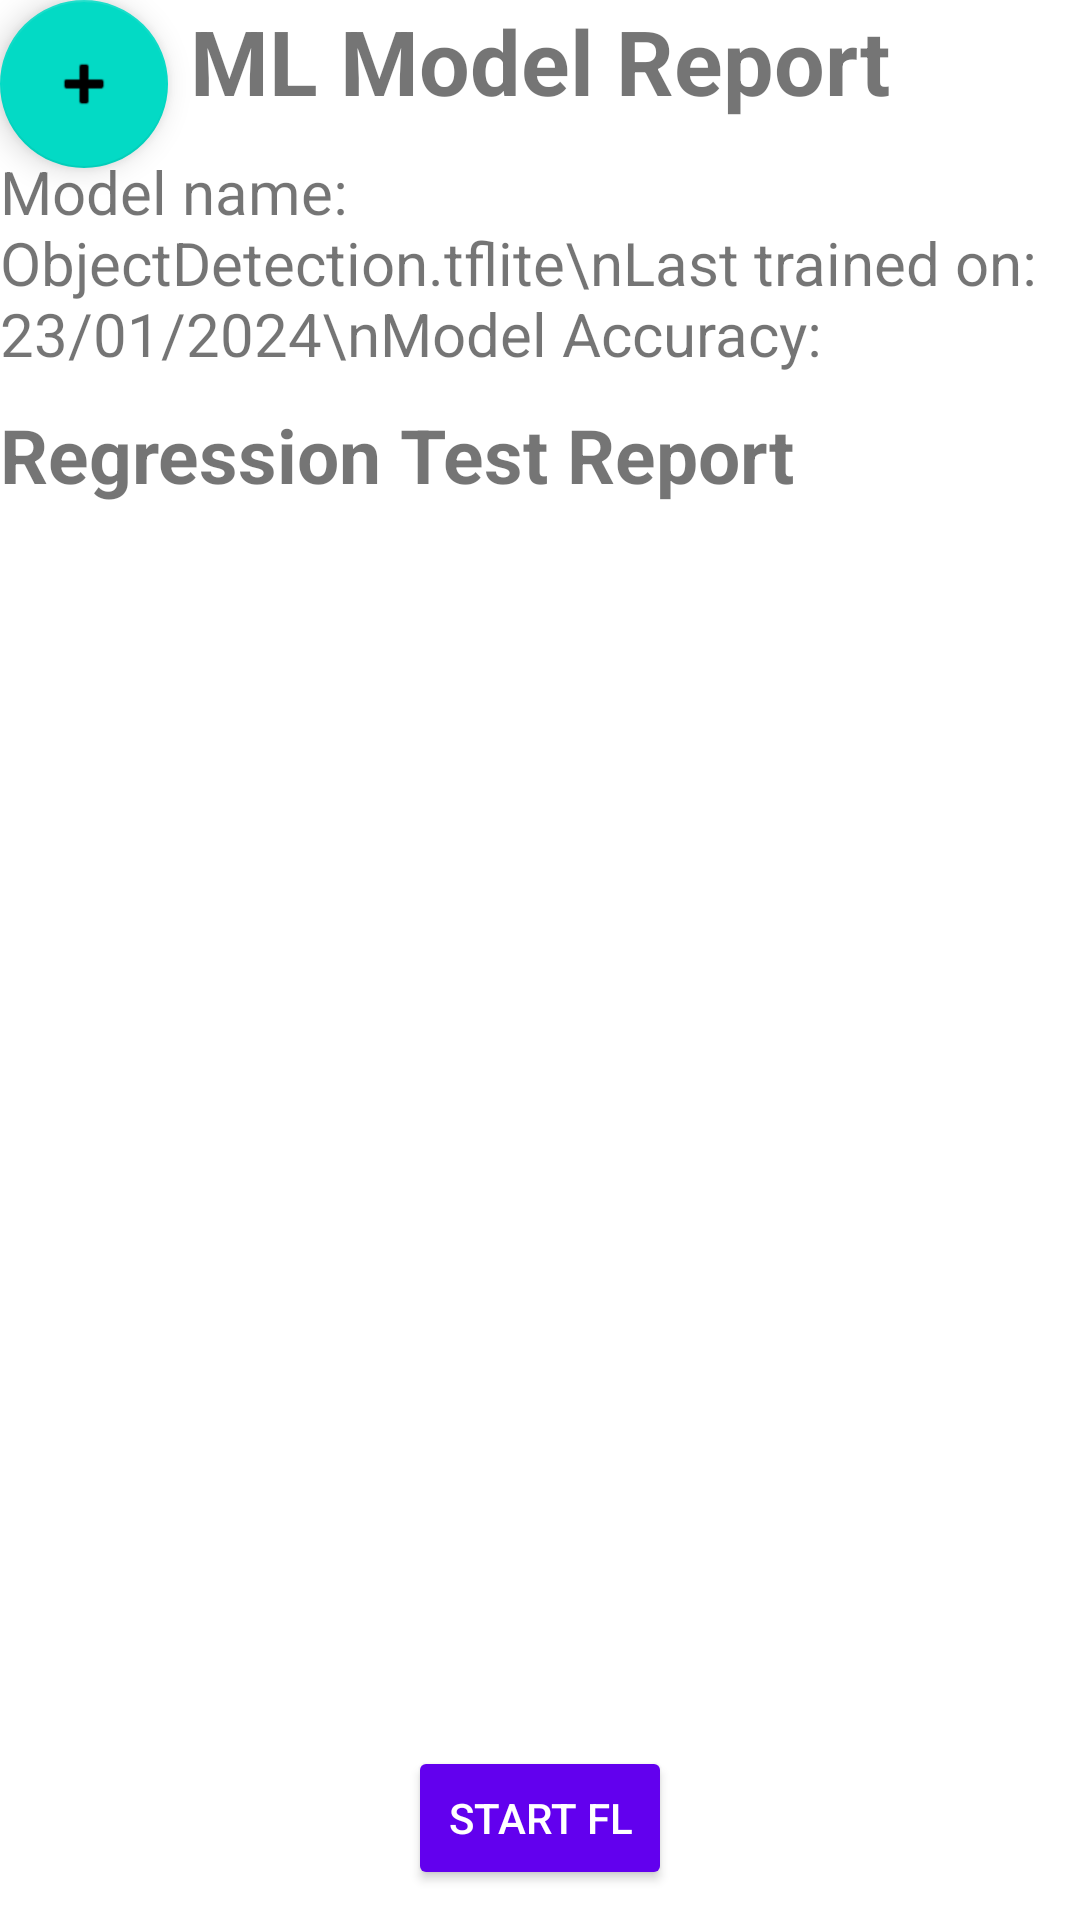

Locate icon controls on the screen. Image size 1080px×1920px, boxes as detection(x1, y1, x2, y2).
Floating Action Button: detection(0, 0, 168, 168)
